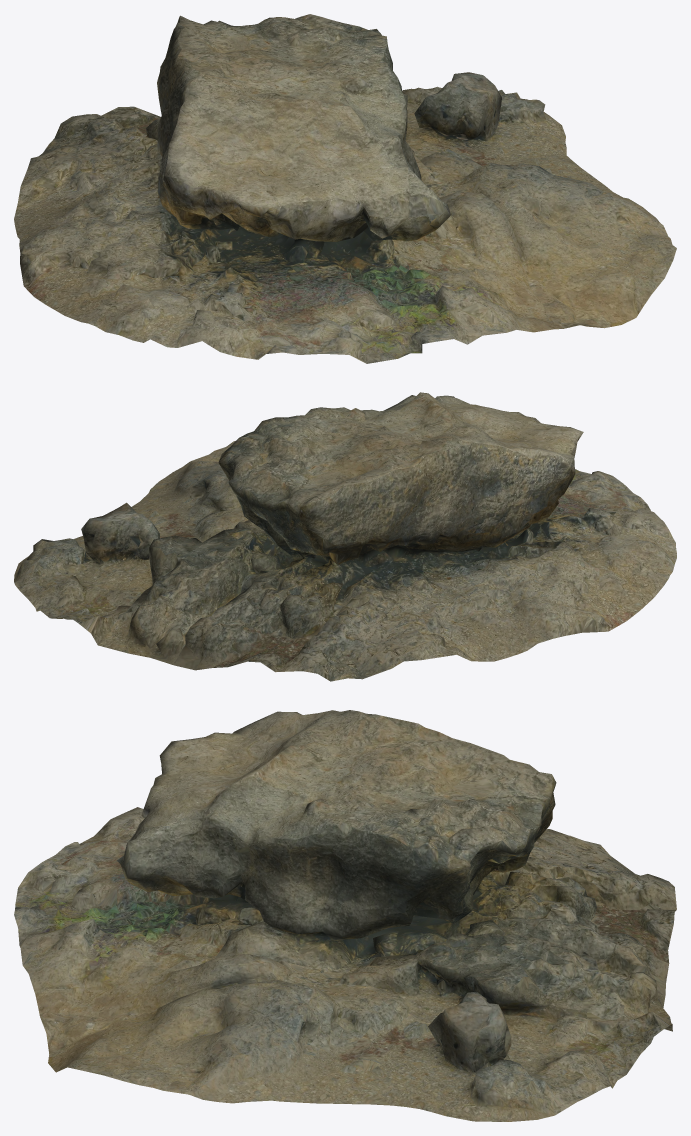
The model's file is coast_rocks_05.glb.
The picture shows the model from 3 angles, top to bottom: view 1: azimuth 30°, elevation 25°; view 2: azimuth 150°, elevation 25°; view 3: azimuth 270°, elevation 25°; orthographic projection. The views are drawn at different scales.
Visible parts, largest first — view 1: coast_rocks_05; view 2: coast_rocks_05; view 3: coast_rocks_05.
Part boxes in pixels (bbox=[...]): coast_rocks_05: bbox=[14, 14, 676, 363]; coast_rocks_05: bbox=[14, 392, 676, 681]; coast_rocks_05: bbox=[14, 710, 676, 1121].
Size of the model in its own units: 4.04 by 1.32 by 3.75.
1 material, 1 textured.
